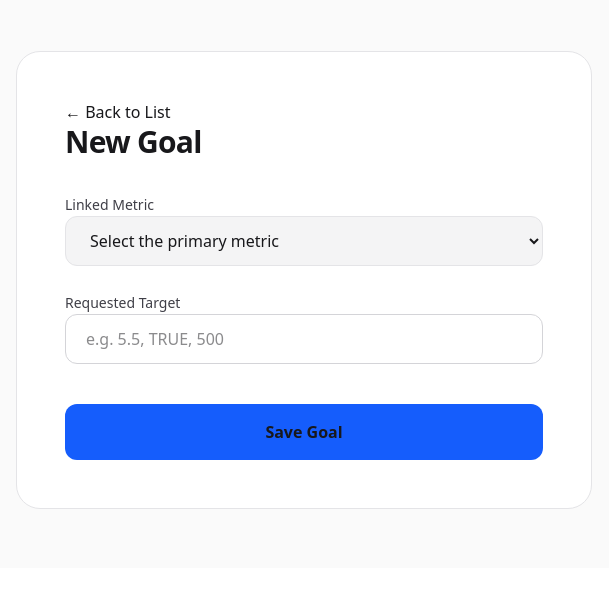
Test case: GoalForm — pré-preenche alvo com valor_padrao da métrica › preenche o campo alvo com valor_padrao ao selecionar a métrica
Select "Receita (daily)" in the dropdown at coordinates (304, 241), box [65, 216, 543, 266]
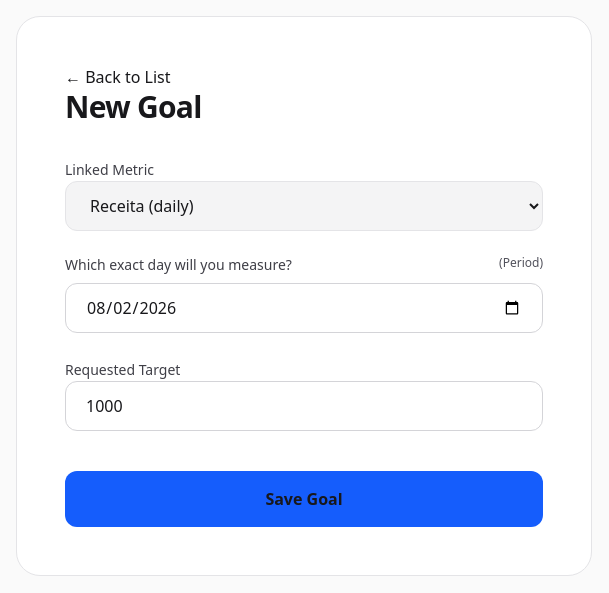
Expected: the field labelled "Requested Target" holds "1000", [65, 381, 543, 431]
